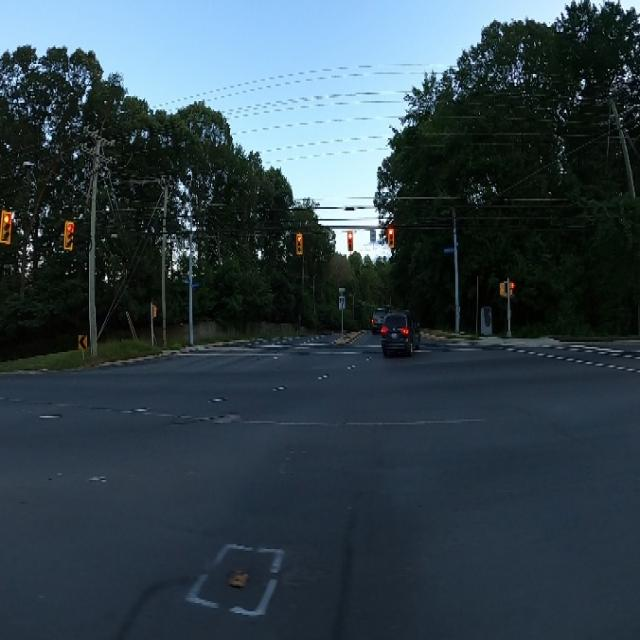car: (377, 302, 423, 367)
